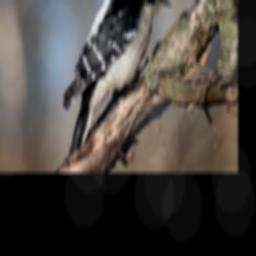Woodpecker: (62, 0, 175, 160)
